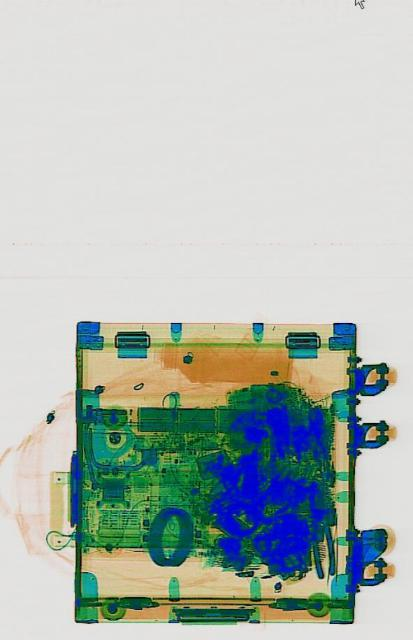Pliers: (303, 480, 336, 580)
